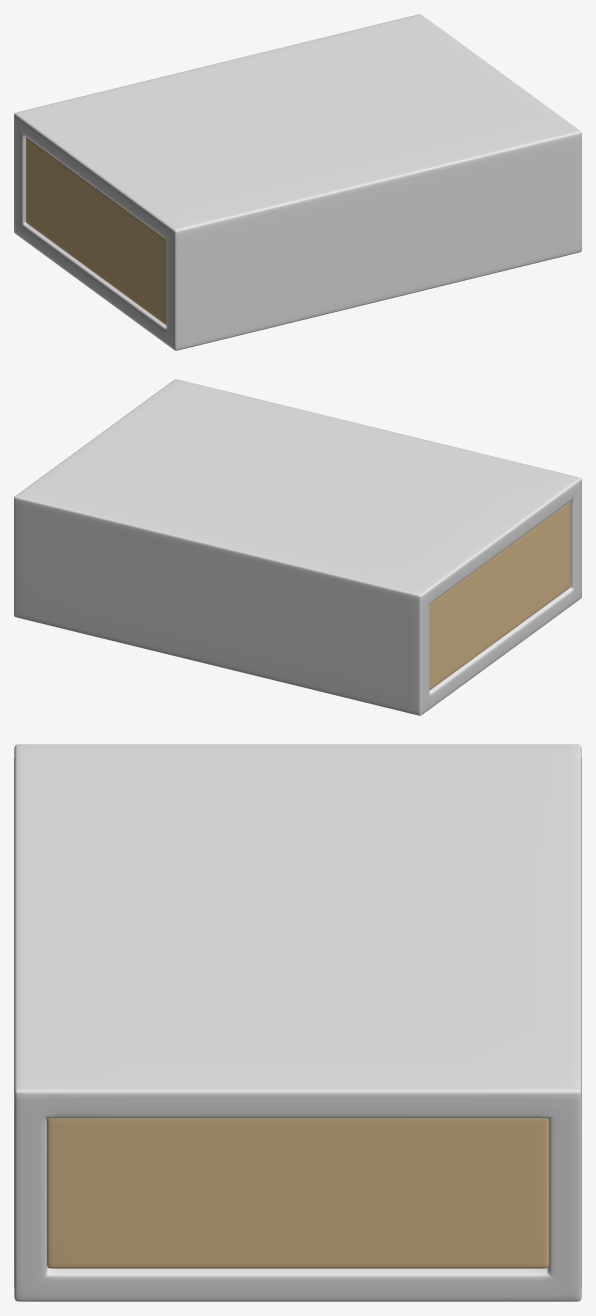
The model's file is matchBox.fbx.
3 renders of one model, top to bottom at view 1: azimuth 30°, elevation 25°; view 2: azimuth 150°, elevation 25°; view 3: azimuth 270°, elevation 25°, orthographic. The views are drawn at different scales.
Parts seen in each view (by area): view 1: matchBox2, matchBox1; view 2: matchBox2, matchBox1; view 3: matchBox2, matchBox1.
Boxes of the visible parts, left/top/right/bottom form: matchBox2: left=14, top=14, right=581, bottom=350; matchBox1: left=26, top=137, right=166, bottom=325; matchBox2: left=14, top=379, right=581, bottom=715; matchBox1: left=429, top=502, right=569, bottom=690; matchBox2: left=14, top=744, right=581, bottom=1301; matchBox1: left=47, top=1118, right=548, bottom=1268.
Size of the model in its own units: 72.31 by 20.54 by 49.8.
